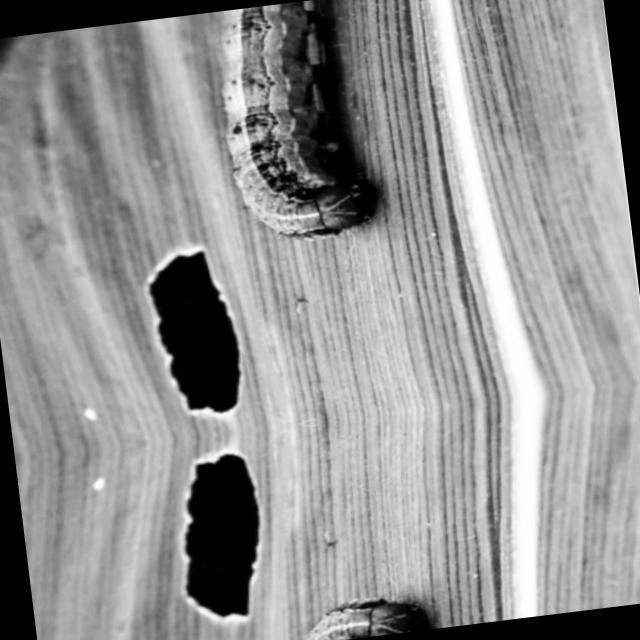Armyworm: (169, 1, 415, 274), (287, 579, 417, 640)
Armyworm_damage: (110, 221, 278, 445), (148, 447, 311, 640)
